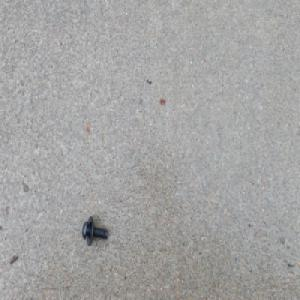BoltWasher: (81, 214, 108, 245)
